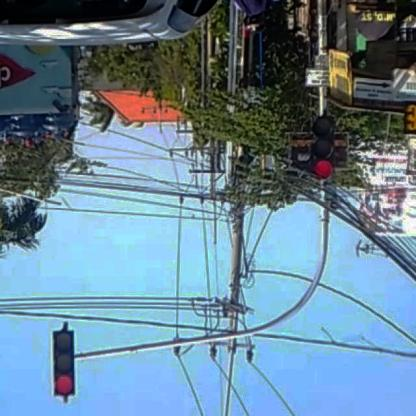Traffic Light -Red-: (51, 331, 76, 396), (313, 117, 334, 179)
